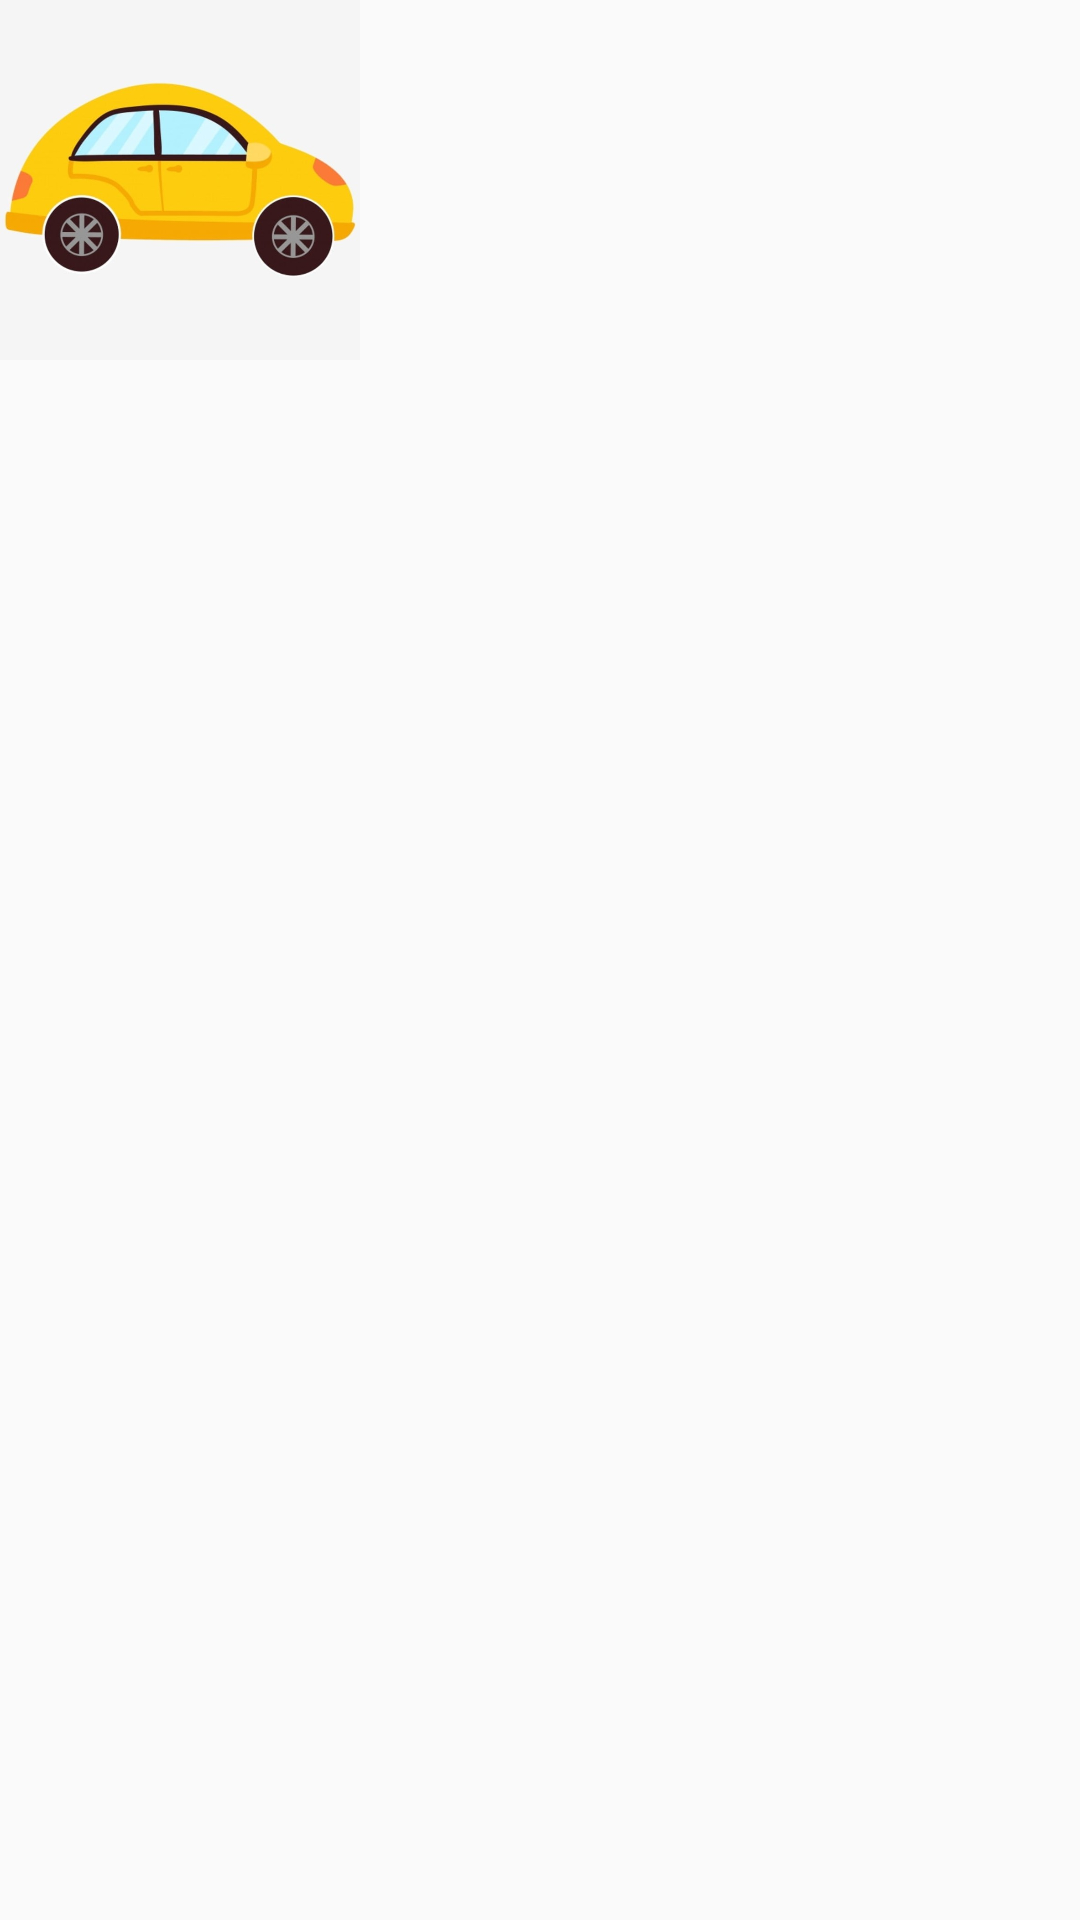

Point at icon controls on the screen. Image size 1080 x 1920, points as (x,y).
car: (180,179)
